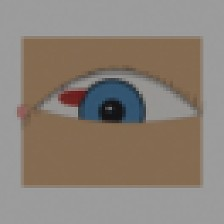hemorrhage_spot: (48, 69, 122, 128)
